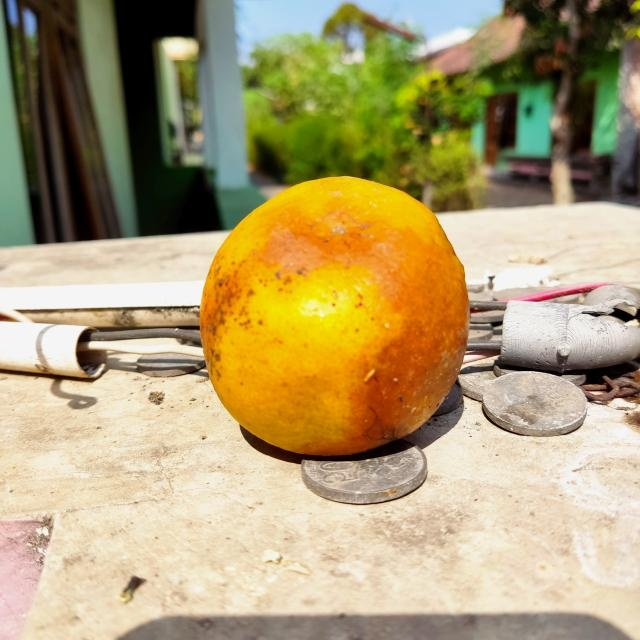agrume: (200, 174, 471, 456)
